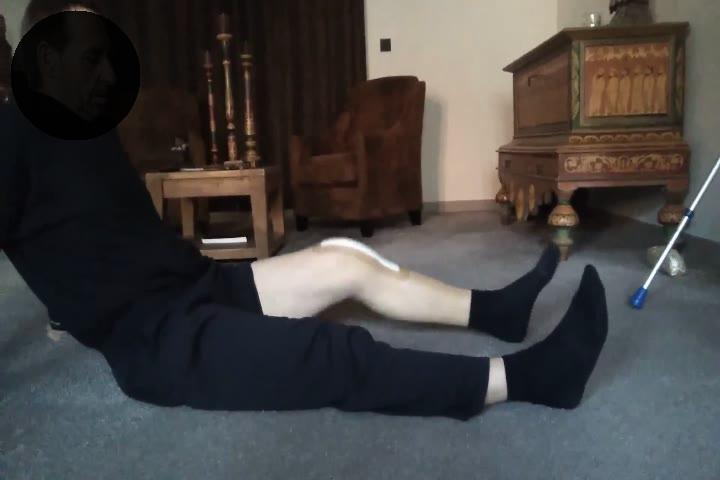lower_body: (109, 220, 616, 435)
